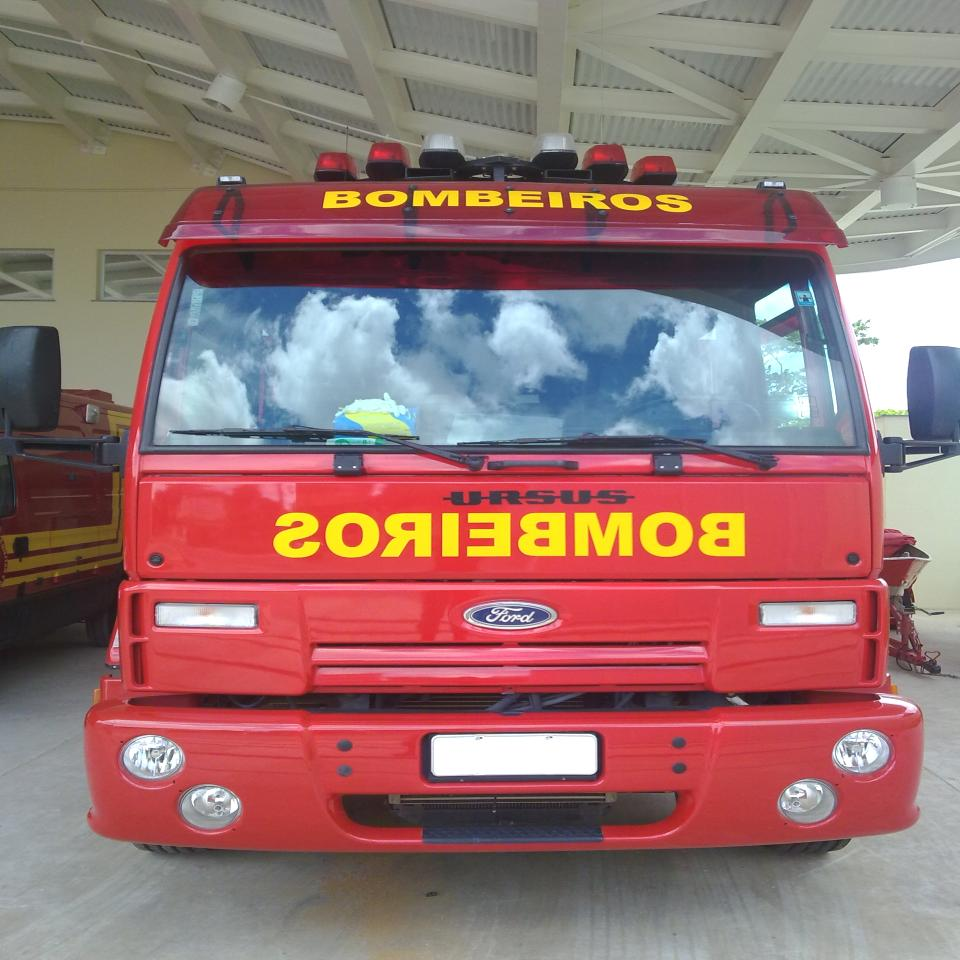bombeiro: (77, 137, 929, 868)
